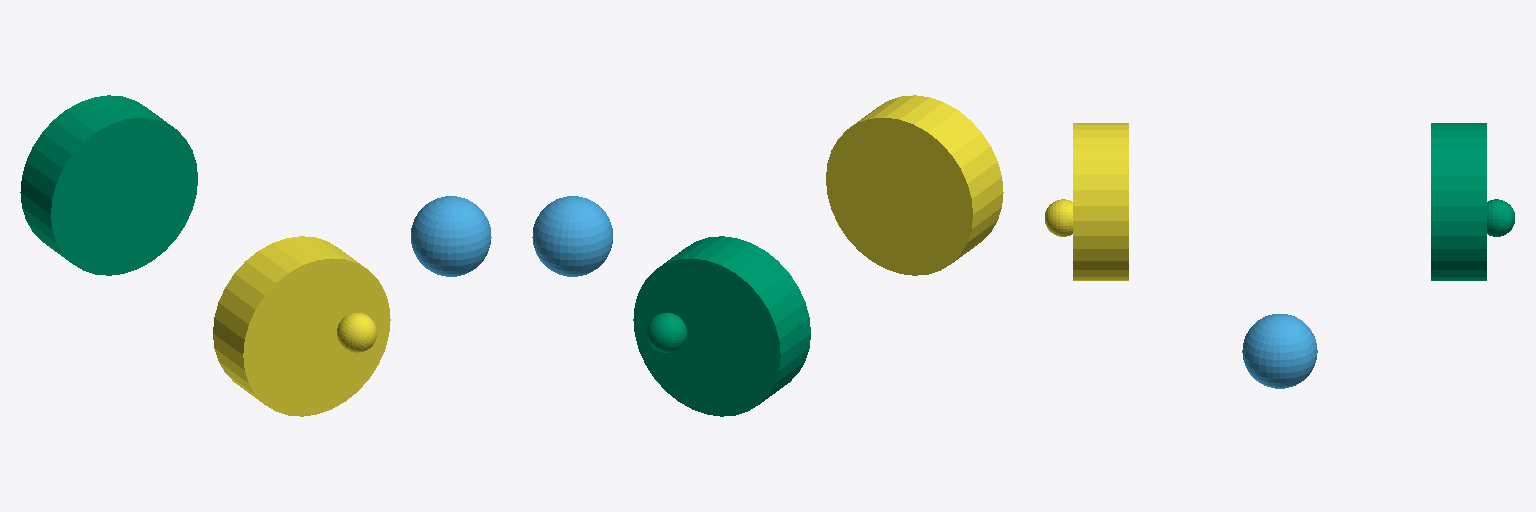
URDF robot description (thymio):
<?xml version="1.0" ?>
<!-- Robot -->
 <robot name="thymio">
    <link name="chassis">
      <inertial>
        <mass value="0.230"/>
        <inertia ixx="1.272320e-04" ixy="0" ixz="0" iyy="1.272320e-04" iyz="0" izz="2.272320e-04"/>
      </inertial>

      <collision name="collision">
        <origin xyz="0 0 0" rpy="1.5707963267948966 0 0"/>
        <geometry>
          <mesh filename="package://models/thymio/meshes/thymio.dae"/>
        </geometry>
      </collision>

      <visual name="visual">
        <origin xyz="0 0 0" rpy="0 0 0"/>
        <geometry>
          <mesh filename="package://models/thymio/meshes/thymio.dae"/>
        </geometry>
      </visual>

      <collision name="raspberry_visual">
        <origin xyz="0 0 0.038" rpy="1.5707963267948966 0 0"/>
          <geometry>
            <mesh filename="package://models/thymio/meshes/raspberry_case.dae" scale="0.11 0.11 0.11"/>
          </geometry>
      </collision>

      <visual name="raspberry_visual">
        <origin xyz="0 0 0.038" rpy="0 0 0"/>
          <geometry>
            <mesh filename="package://models/thymio/meshes/raspberry_case.dae" scale="0.11 0.11 0.11"/>
          </geometry>
      </visual>
    </link>

  <link name="caster">
    <inertial>
      <inertia ixx="2.7e-6" ixy="0.0" ixz="0.0" iyy="2.7e-6" iyz="0.0" izz="2.7e-6"/>
      <mass value="0.025"/>
    </inertial>
      <collision>
        <origin xyz="0.043 0 -0.021" rpy="1.5707963267948966 0 0 "/>
          <geometry>
            <cylinder length=".02" radius=".01"/>
          </geometry>
      </collision>


      <visual name="caster_visual">
         <!-- <origin xyz="0.045 0 -0.0225" rpy="0 0 0"/> -->
        <origin xyz="0.043 0 -0.021" rpy="0 0 0"/>
          <geometry>
            <sphere radius=".01"/>
          </geometry>
      </visual>
  </link>


<!-- wheels -->
  <link name="left_wheel">
    <self_collide>False</self_collide>
    <inertial>
      <inertia ixx="3.2646e-5" ixy="0.0" ixz="0.0" iyy="3.2646e-5" iyz="0.0" izz="3.2646e-5"/>
      <mass value="0.075"/>
    </inertial>
    <collision>
    <contact_coefficient mu="1"  resitution="0"  k_p="0"  k_d="1000" />
      <geometry>
        <cylinder length=".015" radius=".021"/>
      </geometry>
    </collision>
    <visual>
      <geometry>
        <cylinder length=".015" radius=".021"/>
      </geometry>
    </visual>
    <visual>
      <origin rpy="0 0 0" xyz="0.01 0 0.01"/>
      <geometry>
        <sphere radius=".005"/>
      </geometry>
    </visual>
  </link>

  <link name="right_wheel">
    <self_collide>False</self_collide>
    <inertial>
      <inertia ixx="3.2646e-5" ixy="0.0" ixz="0.0" iyy="3.2646e-5" iyz="0.0" izz="3.2646e-5"/>
      <mass value="0.075"/>
    </inertial>
    <collision>
    <contact_coefficient mu="1"  resitution="0"  k_p="0"  k_d="1000" />
      <geometry>
        <cylinder length=".015" radius=".021"/>
      </geometry>
    </collision>
    <visual>
      <geometry>
        <cylinder length=".015" radius=".021"/>
      </geometry>
    </visual>
    <visual>
      <origin rpy="0 0 0" xyz="0.01 0 -0.01"/>
      <geometry>
        <sphere radius=".005"/>
      </geometry>
    </visual>
  </link>

<!-- revolute joints -->
  <joint name="left_wheel_hinge" type="continuous">
    <safety_controller k_position="0.0" k_velocity="40.0" soft_lower_limit="-2.8973" soft_upper_limit="2.8973"/>
    <origin rpy="-1.5707963267948966 0 0" xyz="-0.027 0.0475 -0.01"/>
    <child link="left_wheel"/>
    <parent link="chassis"/>
    <axis xyz="0 0 1"/>
    <dynamics damping="1.0"/>
    <limit effort="0.12" lower="-2.8973" upper="2.8973" velocity="7"/>
    <use_parent_model_frame>0</use_parent_model_frame>
  </joint>
  <joint name="right_wheel_hinge" type="continuous">
    <safety_controller k_position="0.0" k_velocity="40.0" soft_lower_limit="-2.8973" soft_upper_limit="2.8973"/>
    <origin rpy="-1.5707963267948966 0 0" xyz="-0.027 -0.0475 -0.01"/>
    <child link="right_wheel"/>
    <parent link="chassis"/>
    <axis xyz="0 0 1"/>
    <dynamics damping="1.0"/>
    <limit effort="0.12" lower="-2.8973" upper="2.8973" velocity="7"/>
    <use_parent_model_frame>0</use_parent_model_frame>
  </joint>

    <joint name="caster_joint" type="fixed">
    <origin rpy="0 0 0" xyz="0 0 0"/>
    <child link="caster"/>
    <parent link="chassis"/>
  </joint>
</robot>

--- What the picture shows (computed from the rendered views, not written in the file) ---
The picture shows the robot from 3 angles, left to right: view 1: azimuth 30°, elevation 25°; view 2: azimuth 150°, elevation 25°; view 3: azimuth 270°, elevation 25°; orthographic projection.
Robot: thymio — 4 links, 3 joints (2 continuous, 1 fixed); root link chassis; default pose: every joint at zero.
Links seen in each view (by area): view 1: right_wheel, left_wheel, caster; view 2: left_wheel, right_wheel, caster; view 3: left_wheel, right_wheel, caster.
Boxes of the visible links, x1,y1,x2,y2 form: right_wheel: [213, 236, 390, 416]; left_wheel: [20, 95, 197, 275]; caster: [411, 196, 491, 276]; left_wheel: [633, 236, 810, 416]; right_wheel: [826, 95, 1003, 275]; caster: [532, 196, 612, 276]; left_wheel: [1431, 123, 1514, 280]; right_wheel: [1045, 123, 1128, 280]; caster: [1242, 314, 1317, 388].
Bounding box of the posed robot: 0.101 × 0.125 × 0.042 m (x, y, z).
0 mesh visuals loaded from 2 distinct referenced files (none loaded); not drawn: 2 (reference not matched to a file when rendering).